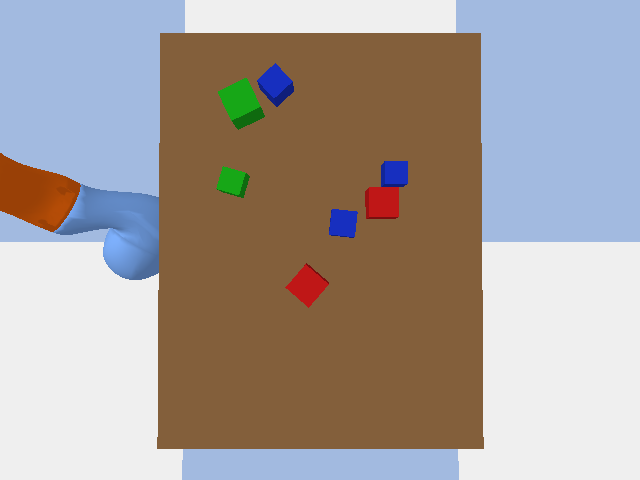blue_obj: (257, 63, 293, 106), (329, 209, 357, 237), (381, 161, 407, 186)
green_obj: (218, 78, 264, 129), (216, 166, 249, 197)
red_obj: (285, 263, 328, 307), (365, 187, 398, 218)
